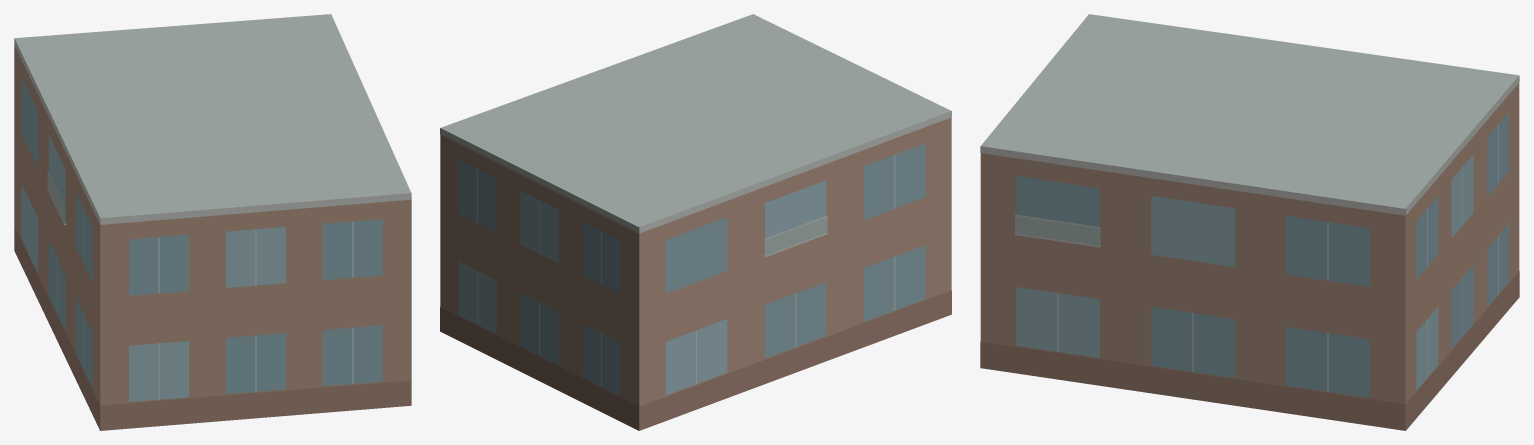
File: survey-upis-32890140.glb
3 renders of one model, left to right at view 1: azimuth 30°, elevation 25°; view 2: azimuth 150°, elevation 25°; view 3: azimuth 270°, elevation 25°, orthographic. The views are drawn at different scales.
Parts seen in each view (by area): view 1: survey-upis-32890140.tmp; view 2: survey-upis-32890140.tmp; view 3: survey-upis-32890140.tmp.
Part boxes in pixels (box(x1,y1,x2,y2)): survey-upis-32890140.tmp: box(14, 14, 411, 430); survey-upis-32890140.tmp: box(440, 14, 951, 430); survey-upis-32890140.tmp: box(980, 14, 1519, 430).
Size of the model in its own units: 14.89 by 7.9 by 17.4.
